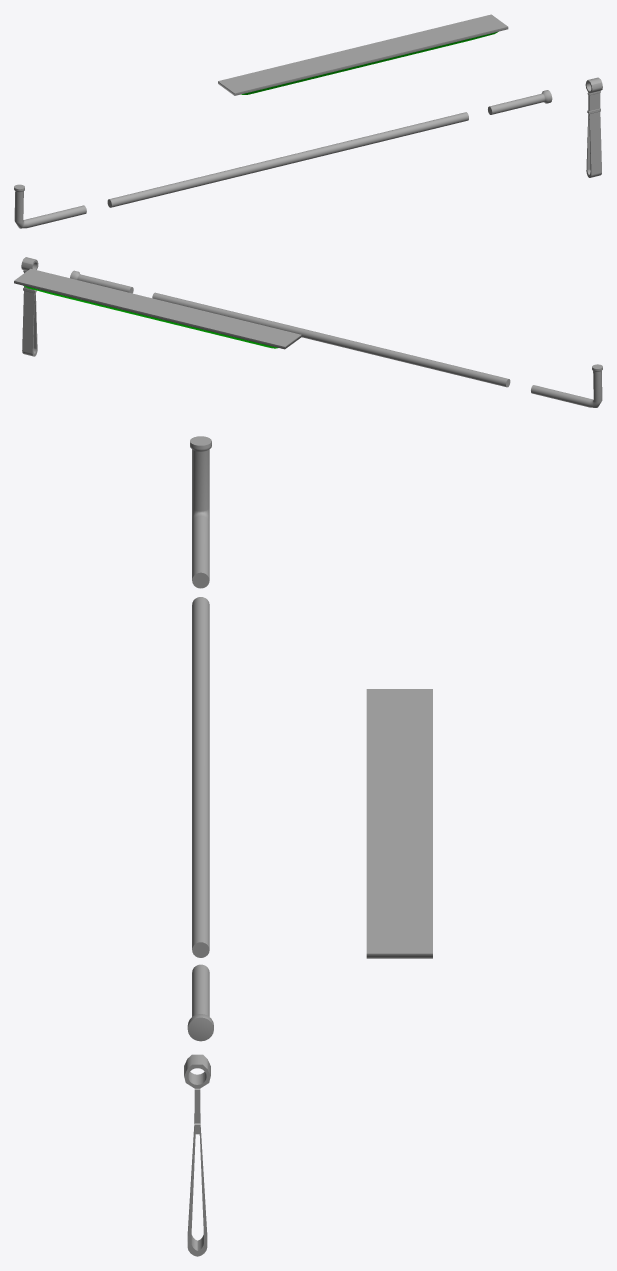
The model's file is paintTramInteriorParts.fbx.
3 views of the same model, one above another, from view 1: azimuth 30°, elevation 25°; view 2: azimuth 150°, elevation 25°; view 3: azimuth 270°, elevation 25° (orthographic). The views are drawn at different scales.
Parts seen in each view (by area): view 1: Light, Bar180, TramBelt, Bar90, BarEnd; view 2: Light, Bar180, TramBelt, Bar90, BarEnd; view 3: Light, Bar180, Bar90, TramBelt, BarEnd.
Part boxes in pixels (x1,y1,x2,y2): Light: (218, 14, 508, 95); Bar180: (107, 112, 468, 207); TramBelt: (585, 77, 602, 177); Bar90: (14, 184, 86, 228); BarEnd: (488, 90, 552, 114); Light: (14, 268, 301, 349); Bar180: (152, 292, 510, 387); TramBelt: (21, 257, 38, 356); Bar90: (531, 364, 602, 407); BarEnd: (70, 270, 133, 293); Light: (366, 689, 432, 958); Bar180: (192, 597, 209, 957); Bar90: (190, 436, 211, 588); TramBelt: (184, 1054, 210, 1256); BarEnd: (187, 964, 213, 1041).
Size of the model in its own units: 153 by 32.28 by 28.43.
